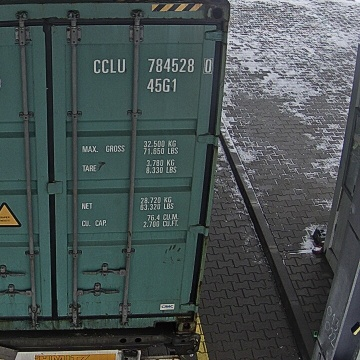serial_id: (94, 58, 211, 73)
